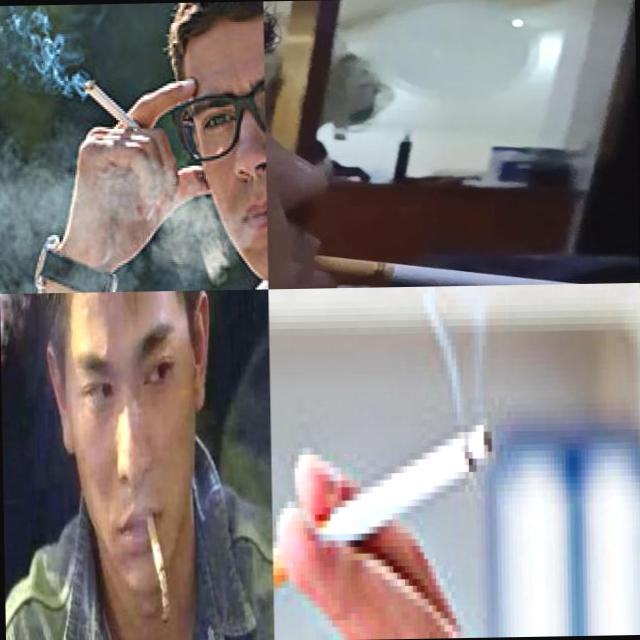smoke: (270, 420, 495, 590), (310, 248, 590, 288), (83, 76, 143, 136), (146, 508, 170, 614)
